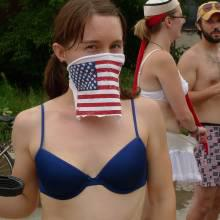NONE: (168, 12, 187, 38), (205, 18, 220, 42)
OK: (69, 37, 124, 92)
